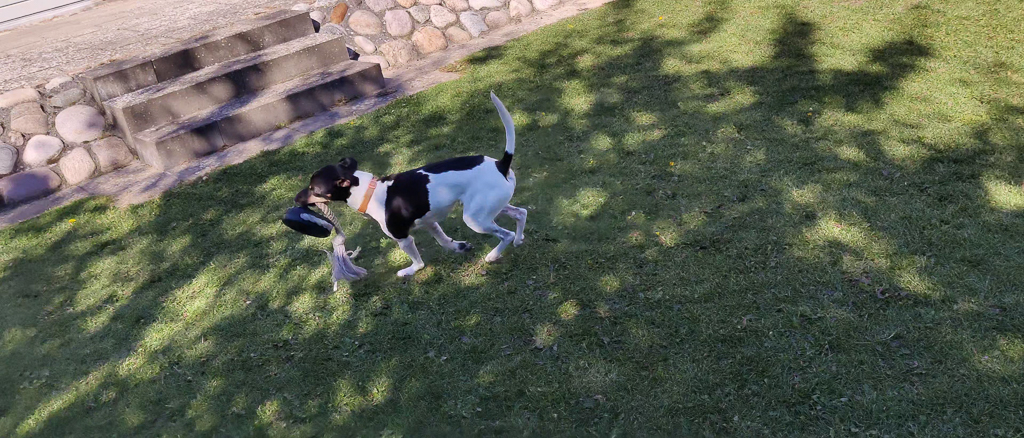Dog: (274, 75, 547, 285)
